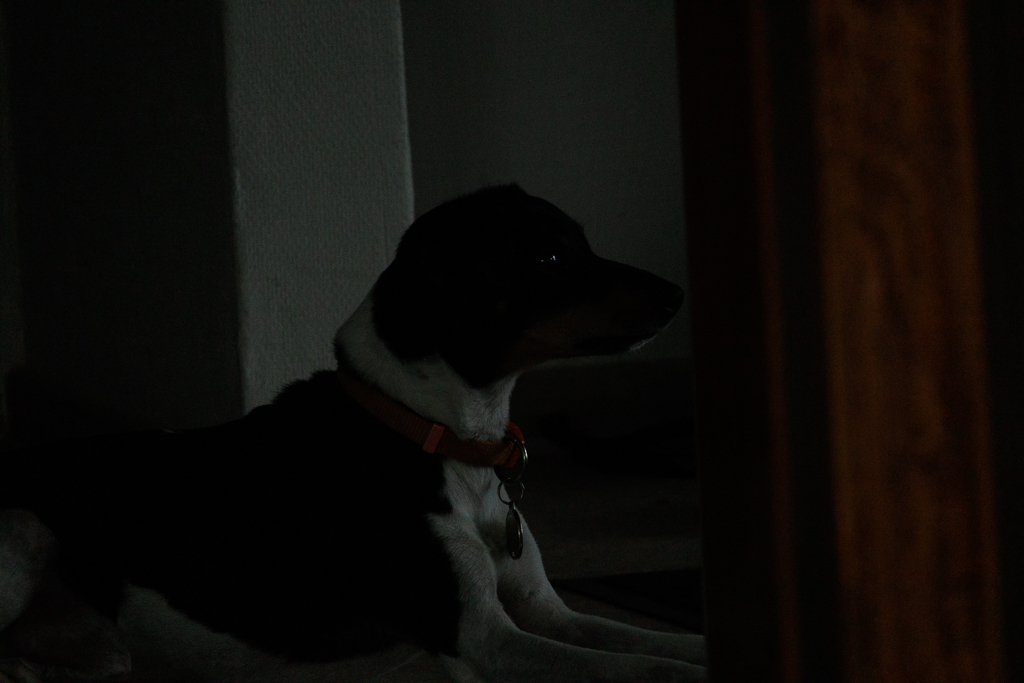Dog: (0, 175, 717, 683)
